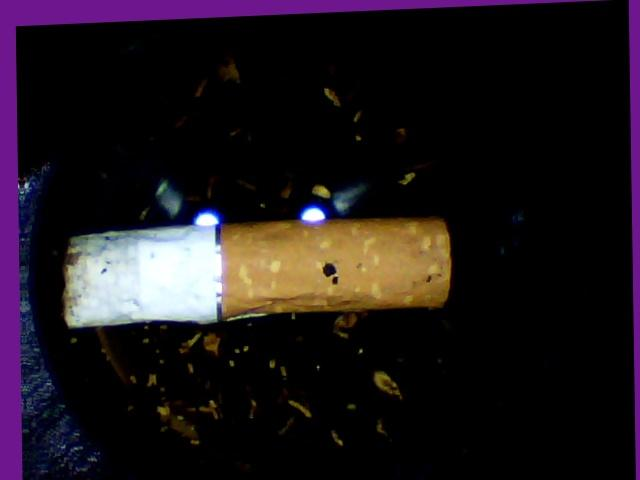megot: (47, 204, 469, 338)
